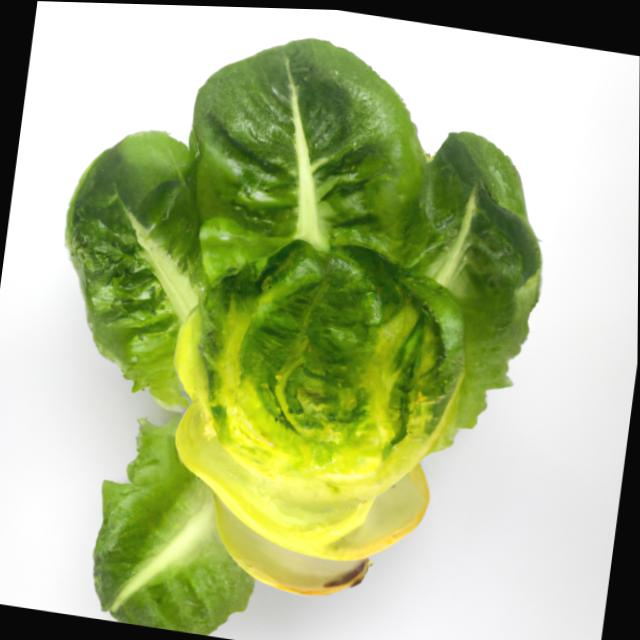-N: (2, 0, 583, 640)
